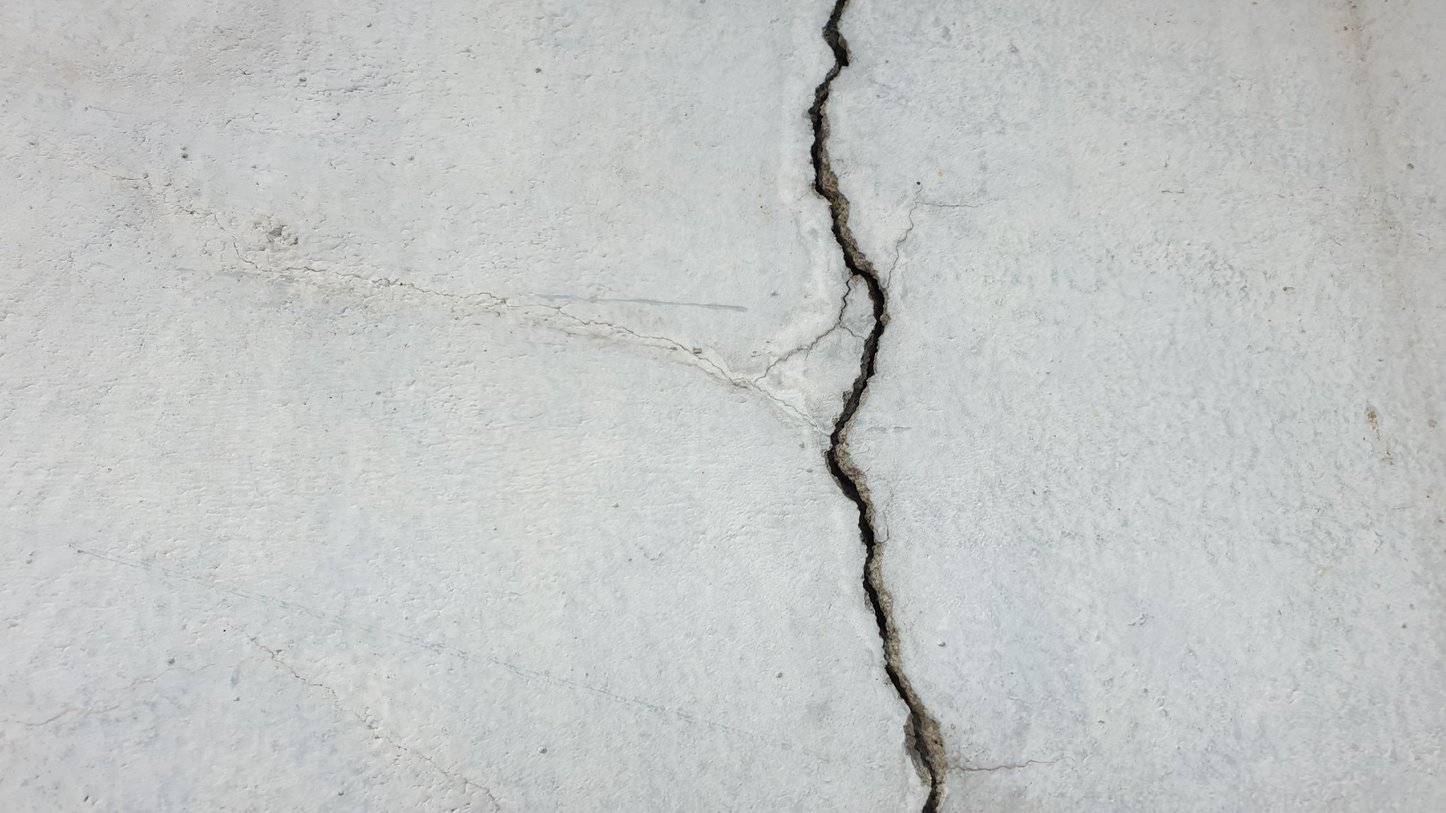crack: (803, 2, 946, 803)
